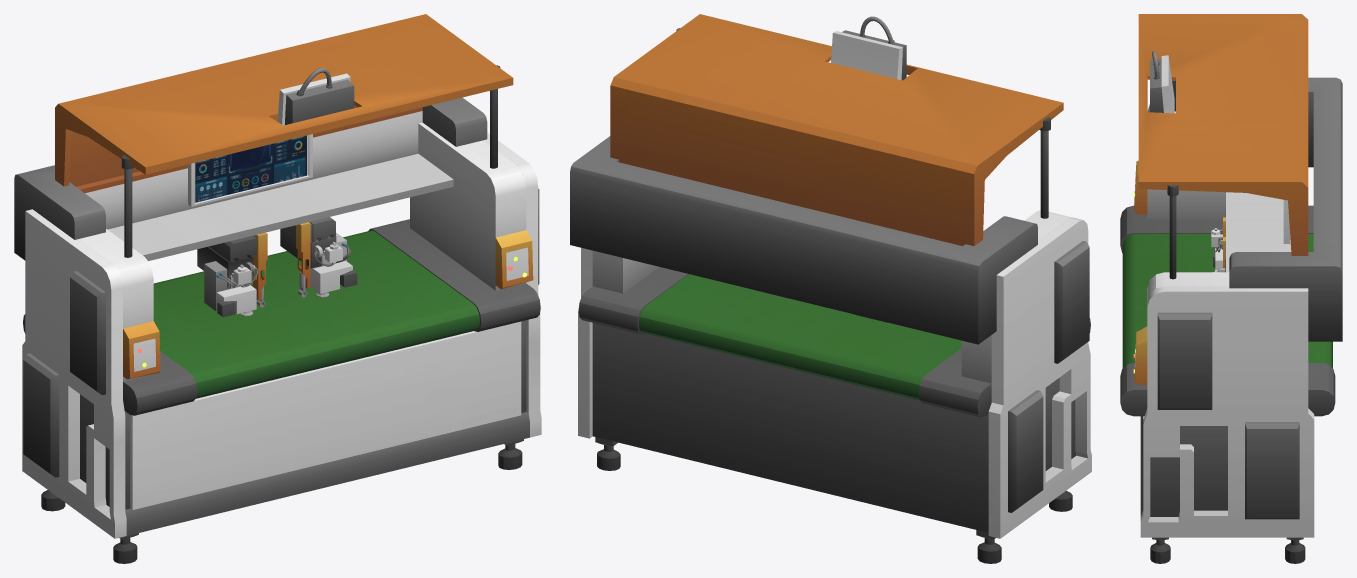
The model's file is Duanqieji.glb.
3 views of the same model, side by side, from view 1: azimuth 30°, elevation 25°; view 2: azimuth 150°, elevation 25°; view 3: azimuth 270°, elevation 25° (orthographic). The views are drawn at different scales.
Parts seen in each view (by area): view 1: Duanqieji, pingmu; view 2: Duanqieji; view 3: Duanqieji.
Boxes of the visible parts, x1=… form: Duanqieji: x1=14, y1=14, x2=541, y2=563; pingmu: x1=195, y1=135, x2=306, y2=202; Duanqieji: x1=570, y1=14, x2=1091, y2=563; Duanqieji: x1=1120, y1=14, x2=1342, y2=563.
Bounding box in the file's own units: 10.99 × 10.6 × 5.1.
3 materials, 3 textured.
